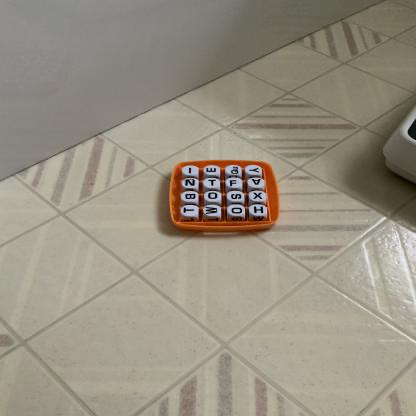a: (250, 178, 265, 188)
b: (183, 193, 200, 204)
e: (205, 167, 221, 176)
f: (228, 179, 242, 189)
h: (252, 205, 268, 217)
i: (183, 165, 200, 177)
n: (183, 178, 200, 190)
o: (230, 206, 246, 217), (206, 192, 222, 203)
qu: (227, 165, 242, 176)
s: (228, 192, 246, 202)
t: (206, 178, 219, 190)
w: (204, 206, 222, 218)
x: (183, 206, 200, 217), (251, 192, 267, 202)
y: (248, 166, 263, 176)
